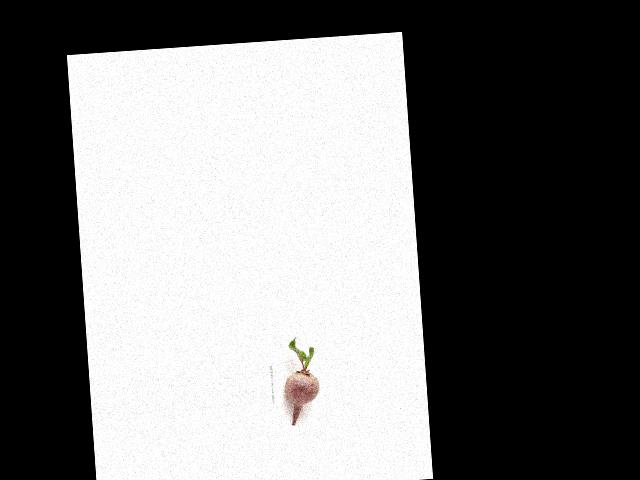beet: (281, 335, 321, 425)
